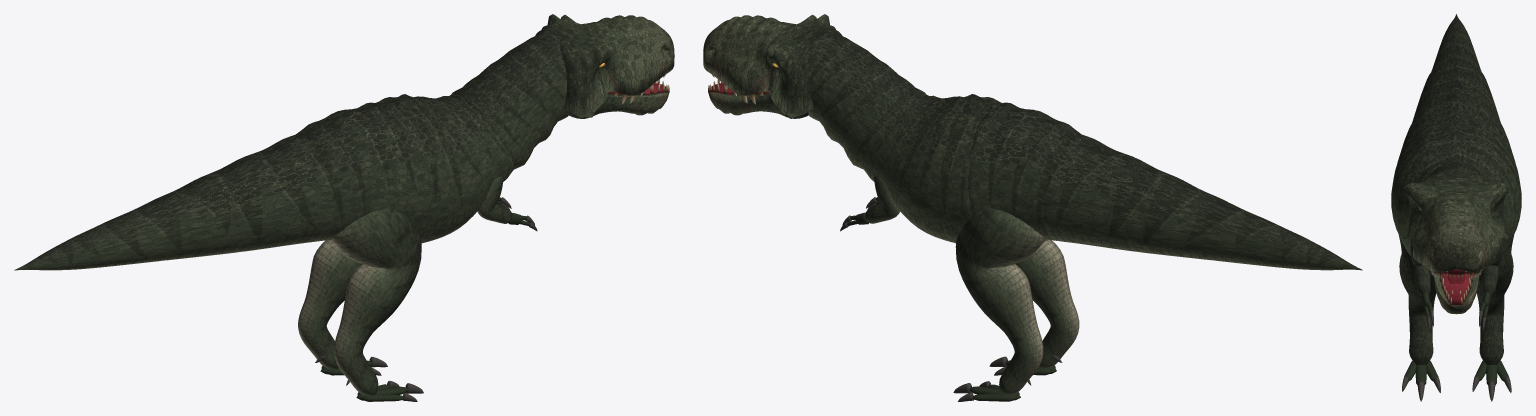
Rendered from trex.glb.
3 renders of one model, left to right at view 1: azimuth 30°, elevation 25°; view 2: azimuth 150°, elevation 25°; view 3: azimuth 270°, elevation 25°, orthographic. The views are drawn at different scales.
Visible parts, largest first — view 1: Trex_Torso, Trex_UpperLeg_-1, Trex_Pelvis, Trex_UpperCranium, Trex_TailSeg0, Trex_Neck, Trex_TailSeg1, Trex_UpperLeg_1, Trex_TailSeg2, Trex_TailSeg3, Trex_Mandible, Trex_ArmColumn_-1; view 2: Trex_Torso, Trex_UpperLeg_1, Trex_Pelvis, Trex_UpperCranium, Trex_TailSeg0, Trex_Neck, Trex_TailSeg1, Trex_UpperLeg_-1, Trex_TailSeg2, Trex_TailSeg3, Trex_Mandible, Trex_ArmColumn_1; view 3: Trex_UpperCranium, Trex_Torso, Trex_Pelvis, Trex_UpperLeg_-1, Trex_UpperLeg_1, Trex_TailSeg0, Trex_TailSeg1, Trex_TailSeg2, Trex_Mandible, Trex_LowerGum, Trex_ArmColumn_1, Trex_ArmColumn_-1 (+9 smaller).
Boxes of the visible parts, bbox=[...] form: Trex_Torso: bbox=[371, 92, 514, 243]; Trex_UpperLeg_-1: bbox=[332, 208, 421, 395]; Trex_Pelvis: bbox=[295, 102, 409, 241]; Trex_UpperCranium: bbox=[535, 14, 674, 118]; Trex_TailSeg0: bbox=[221, 135, 334, 251]; Trex_Neck: bbox=[453, 32, 569, 169]; Trex_TailSeg1: bbox=[148, 168, 252, 260]; Trex_UpperLeg_1: bbox=[298, 240, 361, 368]; Trex_TailSeg2: bbox=[83, 201, 172, 268]; Trex_TailSeg3: bbox=[14, 233, 94, 270]; Trex_Mandible: bbox=[568, 92, 668, 118]; Trex_ArmColumn_-1: bbox=[477, 176, 512, 223]; Trex_Torso: bbox=[863, 92, 1006, 243]; Trex_UpperLeg_1: bbox=[955, 208, 1045, 395]; Trex_Pelvis: bbox=[968, 102, 1082, 240]; Trex_UpperCranium: bbox=[703, 14, 842, 118]; Trex_TailSeg0: bbox=[1043, 134, 1155, 251]; Trex_Neck: bbox=[808, 32, 923, 169]; Trex_TailSeg1: bbox=[1124, 167, 1227, 260]; Trex_UpperLeg_-1: bbox=[1015, 239, 1079, 368]; Trex_TailSeg2: bbox=[1204, 201, 1293, 268]; Trex_TailSeg3: bbox=[1282, 232, 1362, 270]; Trex_Mandible: bbox=[708, 92, 808, 118]; Trex_ArmColumn_1: bbox=[865, 176, 900, 223]; Trex_UpperCranium: bbox=[1402, 172, 1509, 273]; Trex_Torso: bbox=[1391, 117, 1521, 270]; Trex_Pelvis: bbox=[1397, 91, 1515, 161]; Trex_UpperLeg_-1: bbox=[1398, 234, 1436, 364]; Trex_UpperLeg_1: bbox=[1476, 234, 1514, 364]; Trex_TailSeg0: bbox=[1412, 70, 1500, 122]; Trex_TailSeg1: bbox=[1421, 50, 1491, 94]; Trex_TailSeg2: bbox=[1433, 29, 1479, 66]; Trex_Mandible: bbox=[1433, 275, 1479, 314]; Trex_LowerGum: bbox=[1440, 273, 1472, 304]; Trex_ArmColumn_1: bbox=[1482, 238, 1502, 295]; Trex_ArmColumn_-1: bbox=[1410, 238, 1430, 295].
Size of the model in its own units: 7.16 by 3.22 by 1.26.
12 materials, 7 textured.
